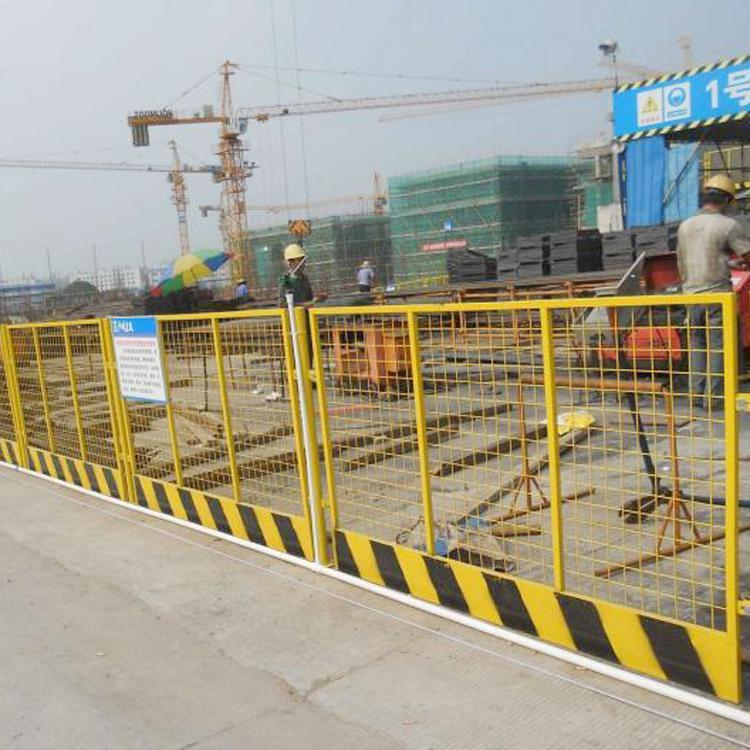sign: (162, 288, 750, 696)
